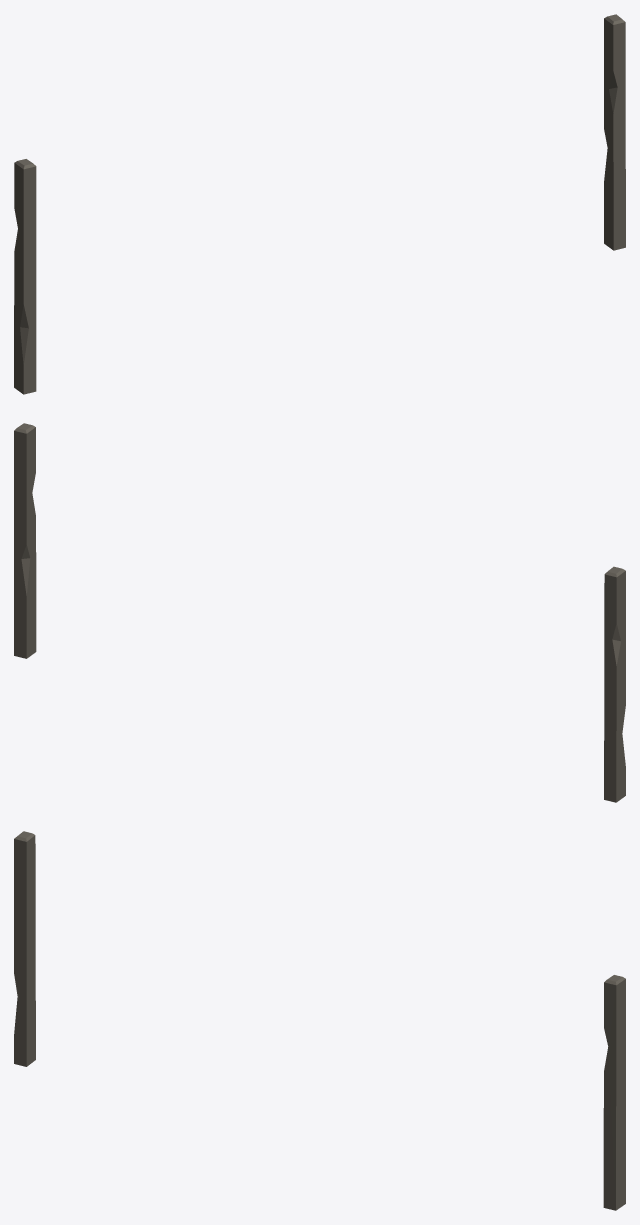
The model's file is SM_Prop_Washingline_Poles_01.glb.
3 renders of one model, top to bottom at view 1: azimuth 30°, elevation 25°; view 2: azimuth 150°, elevation 25°; view 3: azimuth 330°, elevation 25°, orthographic.
Parts seen in each view (by area): view 1: SM_Prop_Washingline_Poles_01; view 2: SM_Prop_Washingline_Poles_01; view 3: SM_Prop_Washingline_Poles_01.
Boxes of the visible parts, left/top/right/bottom form: SM_Prop_Washingline_Poles_01: left=14, top=14, right=625, bottom=394; SM_Prop_Washingline_Poles_01: left=14, top=423, right=625, bottom=802; SM_Prop_Washingline_Poles_01: left=14, top=831, right=625, bottom=1210.
Size of the model in its own units: 7.08 by 2.55 by 0.1964.
Materials: 1 (1 with a texture image).
